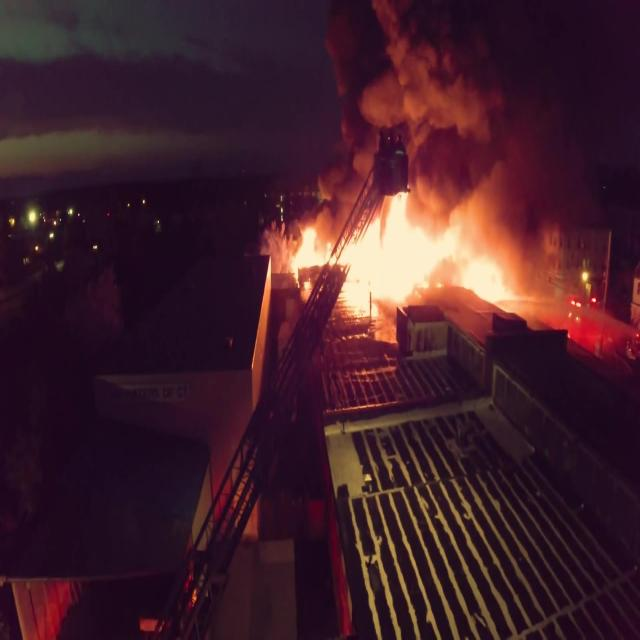Fire: (282, 187, 518, 311)
Smoke: (291, 0, 615, 273)
